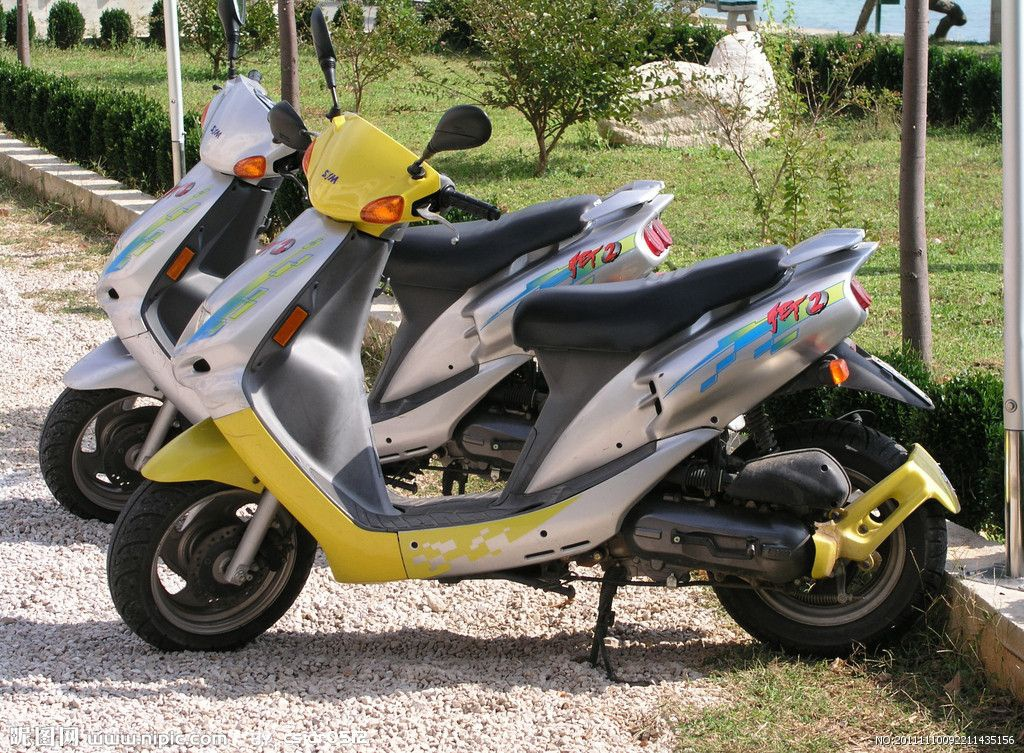non-vehicle: (103, 150, 944, 662), (39, 87, 700, 518)
